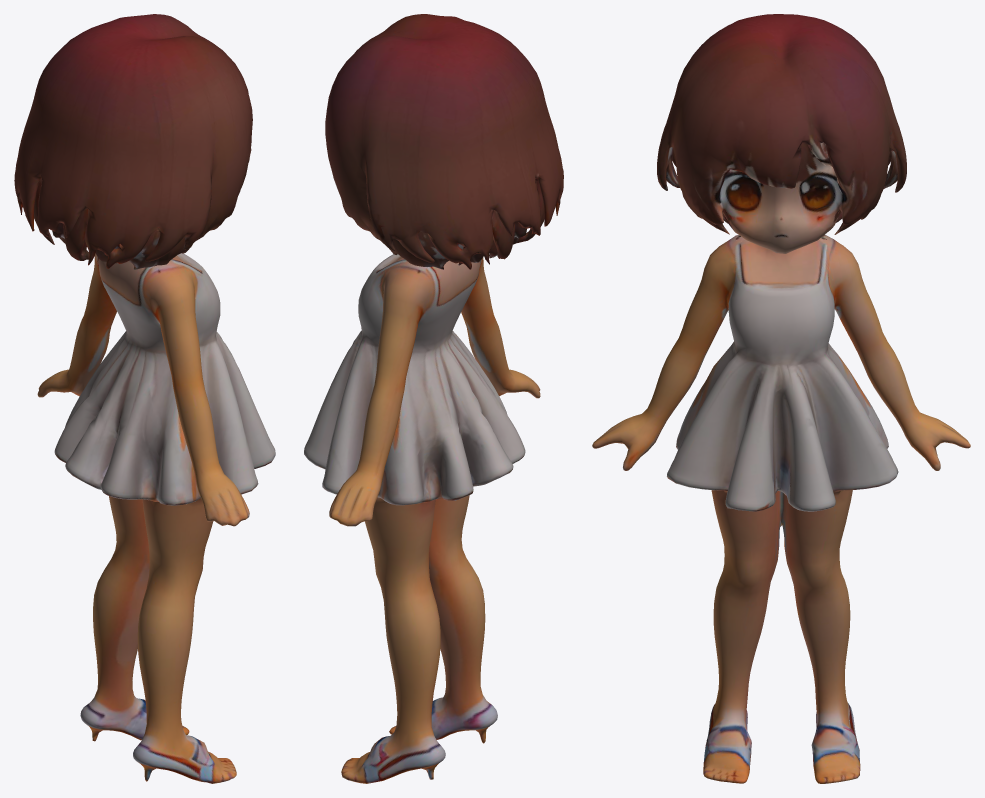
File: girl01.glb
The picture shows the model from 3 angles, left to right: view 1: azimuth 30°, elevation 25°; view 2: azimuth 150°, elevation 25°; view 3: azimuth 270°, elevation 25°; orthographic projection.
Parts seen in each view (by area): view 1: tripo_node_79331feb-5667-46ce-98d3-fa3077ef1501; view 2: tripo_node_79331feb-5667-46ce-98d3-fa3077ef1501; view 3: tripo_node_79331feb-5667-46ce-98d3-fa3077ef1501.
Boxes of the visible parts, x1,y1,x2,y2 form: tripo_node_79331feb-5667-46ce-98d3-fa3077ef1501: (14, 14, 275, 783); tripo_node_79331feb-5667-46ce-98d3-fa3077ef1501: (304, 14, 563, 783); tripo_node_79331feb-5667-46ce-98d3-fa3077ef1501: (592, 14, 970, 783).
Bounding box in the file's own units: 0.2997 × 0.9451 × 0.4482.
1 material, 1 textured.
